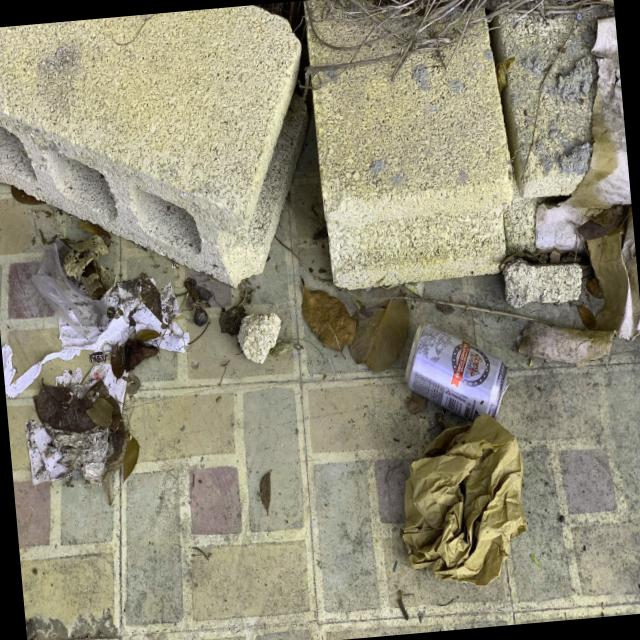less trash: (403, 322, 526, 586)
